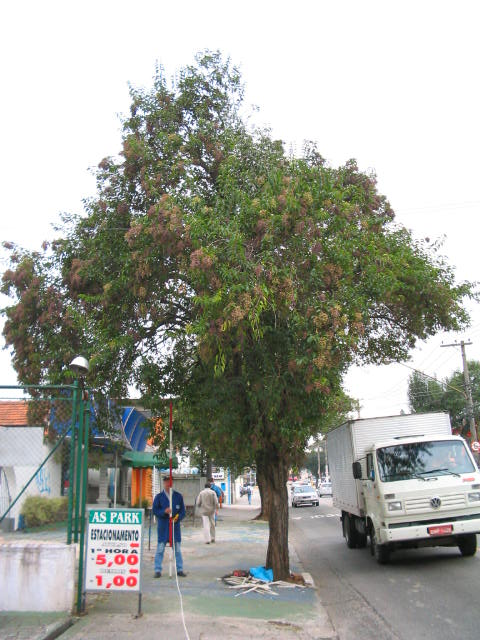crown: (128, 137, 480, 471)
stem: (259, 464, 301, 580)
stick: (160, 396, 184, 574)
tree: (127, 136, 480, 582)
